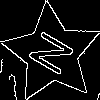N: (27, 28, 84, 83)
